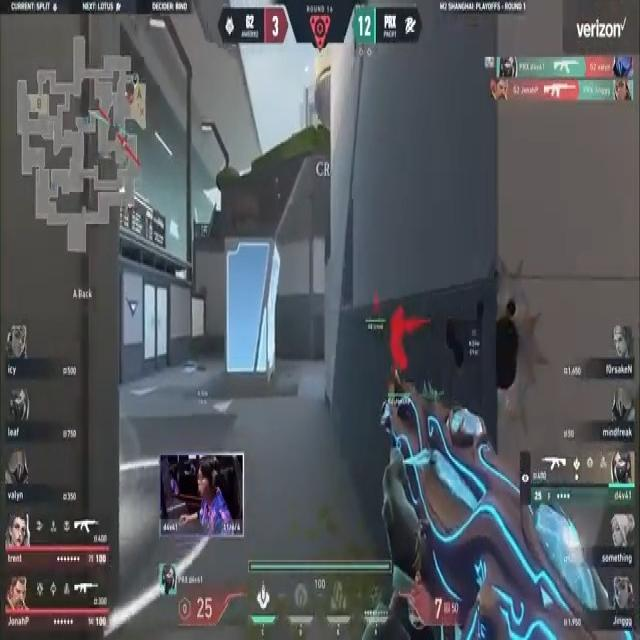enemy behind wall: (386, 303, 429, 380)
